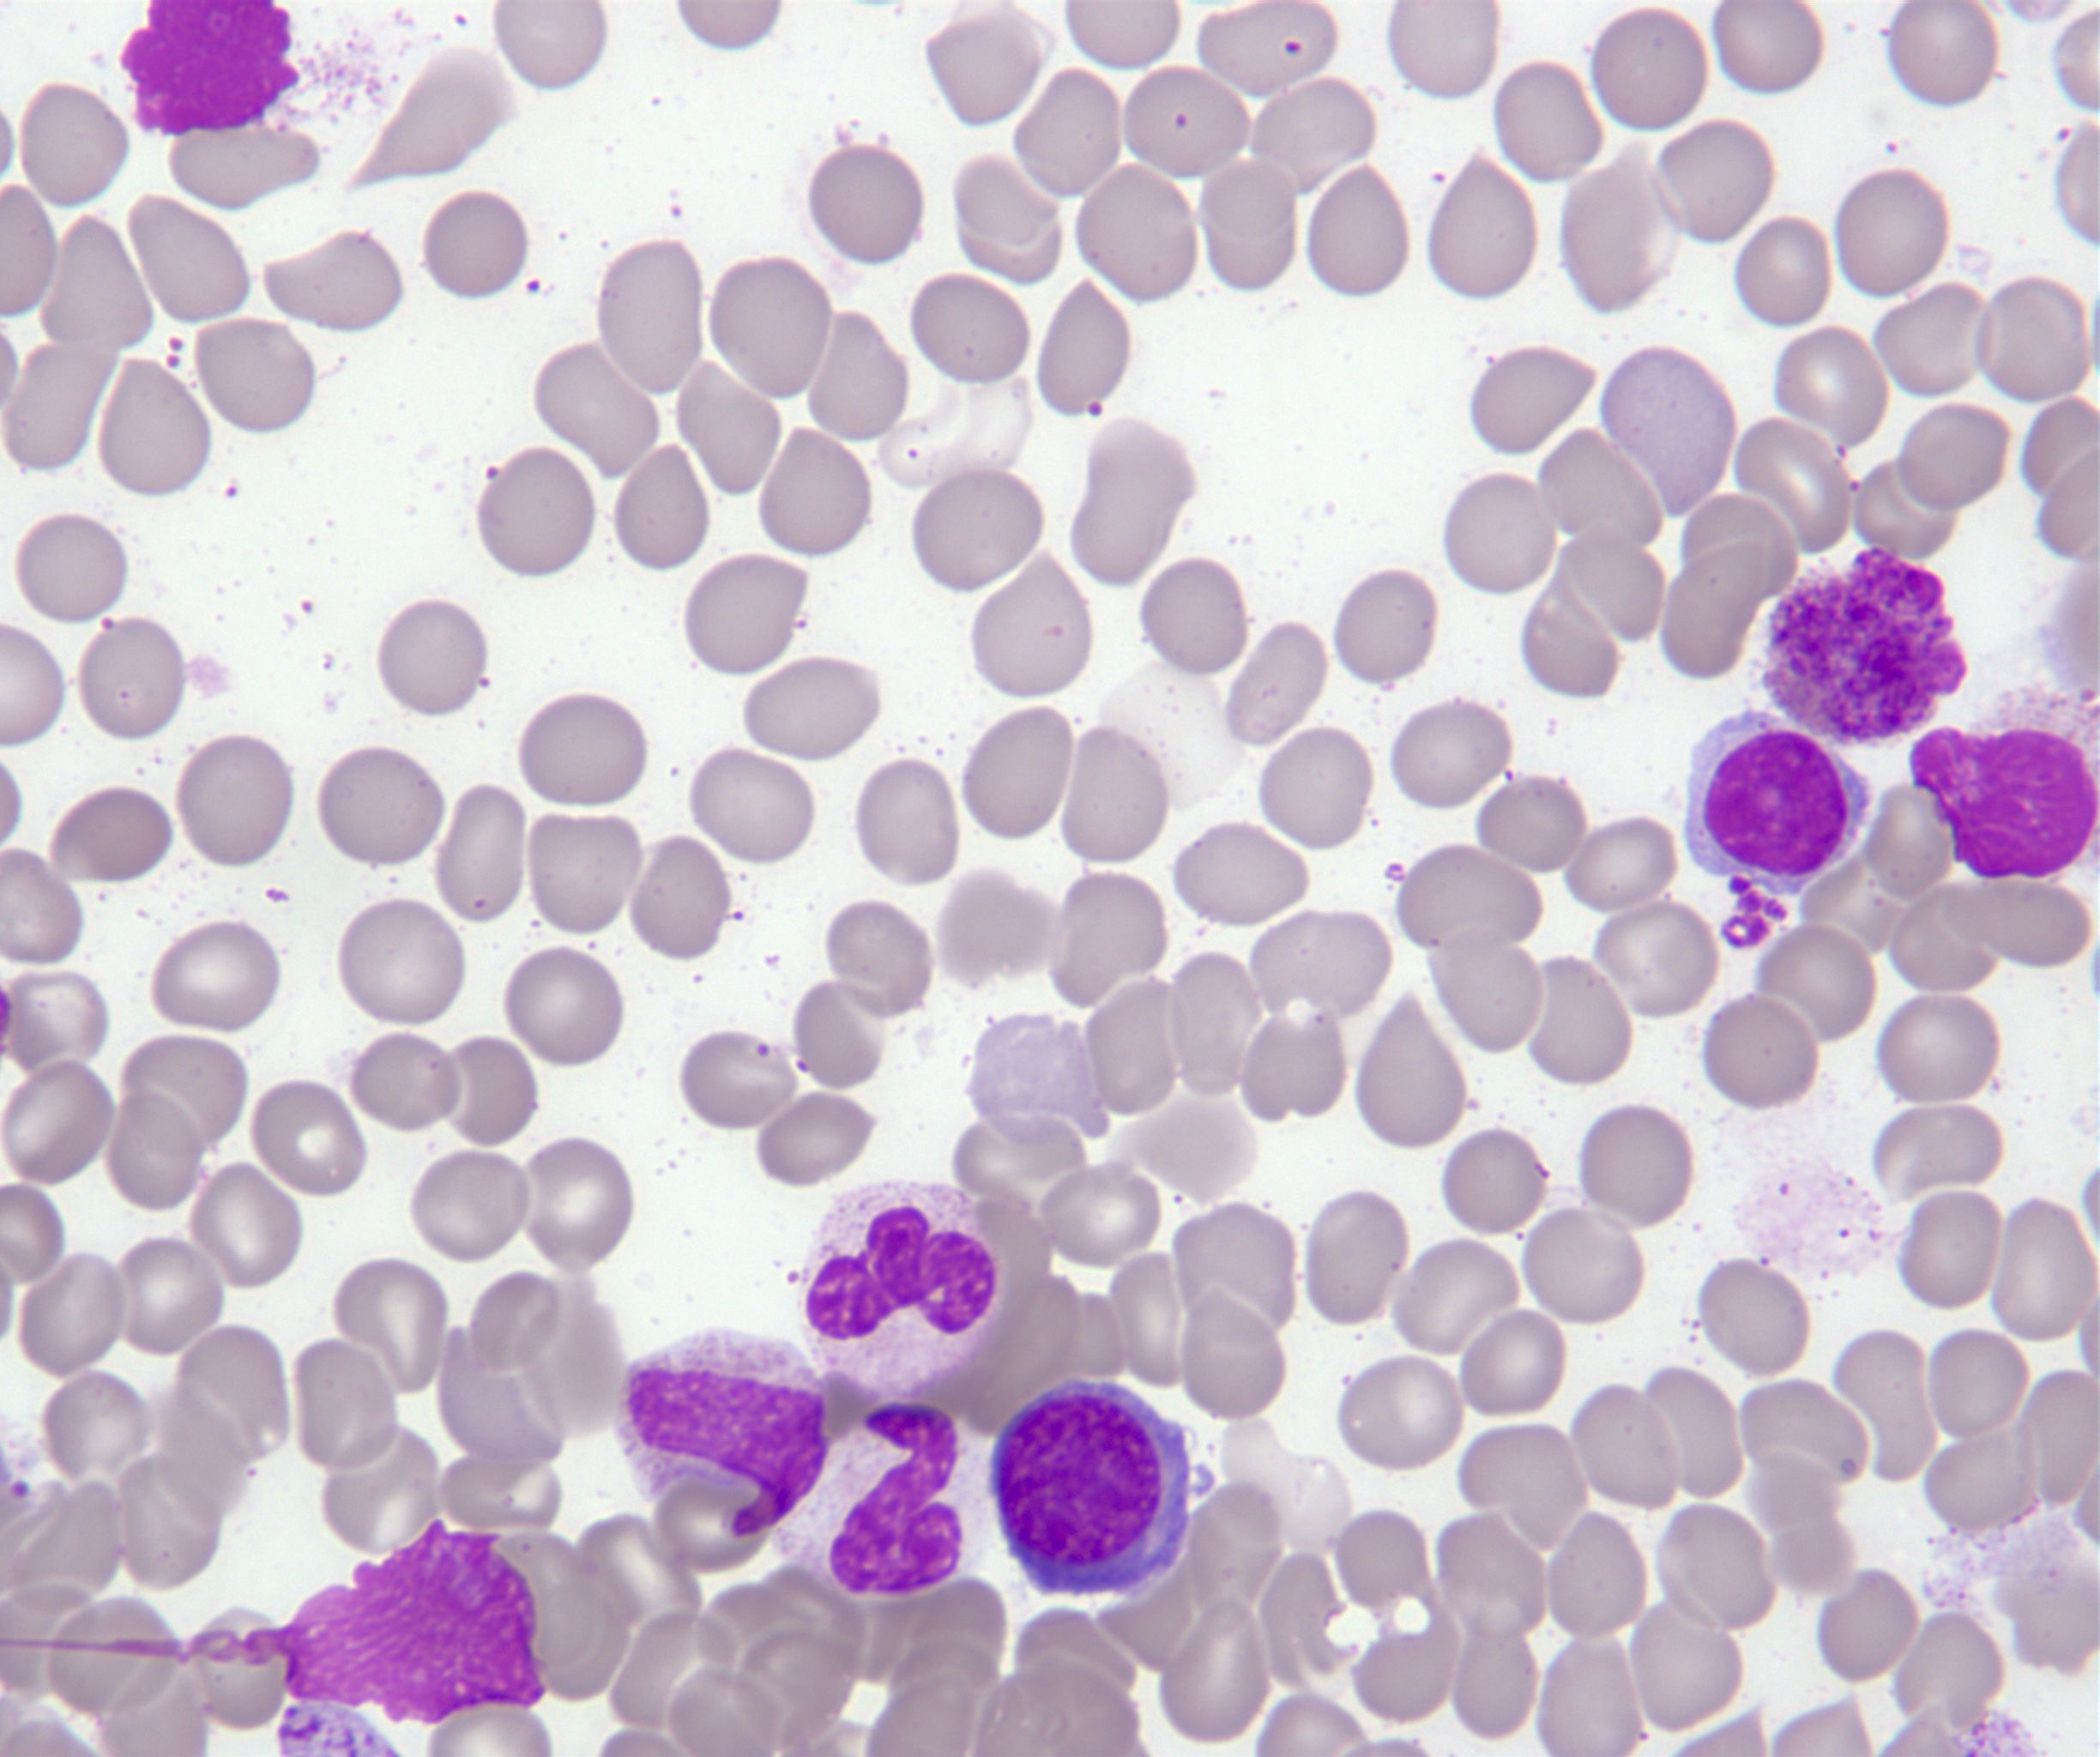23: (982, 1368, 1197, 1602)
3: (610, 1330, 834, 1542)
32: (1681, 707, 1875, 895)
5: (774, 1398, 989, 1602)
6: (788, 1172, 1008, 1394)
x: (274, 1516, 553, 1736), (1753, 539, 1974, 752), (1910, 710, 2100, 885)
